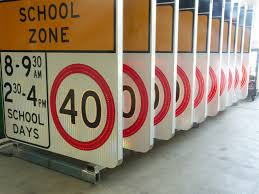sp40: (50, 62, 115, 152)
